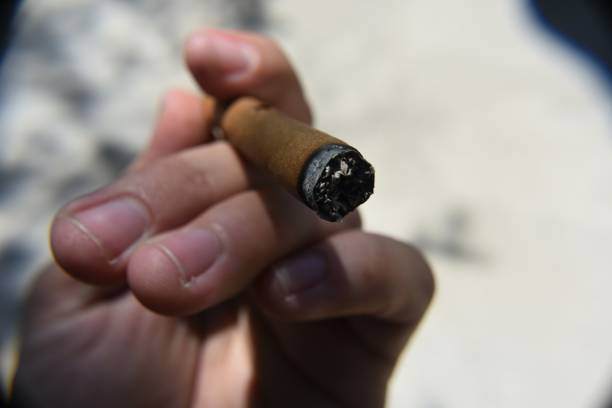cigarette: (200, 93, 377, 223)
